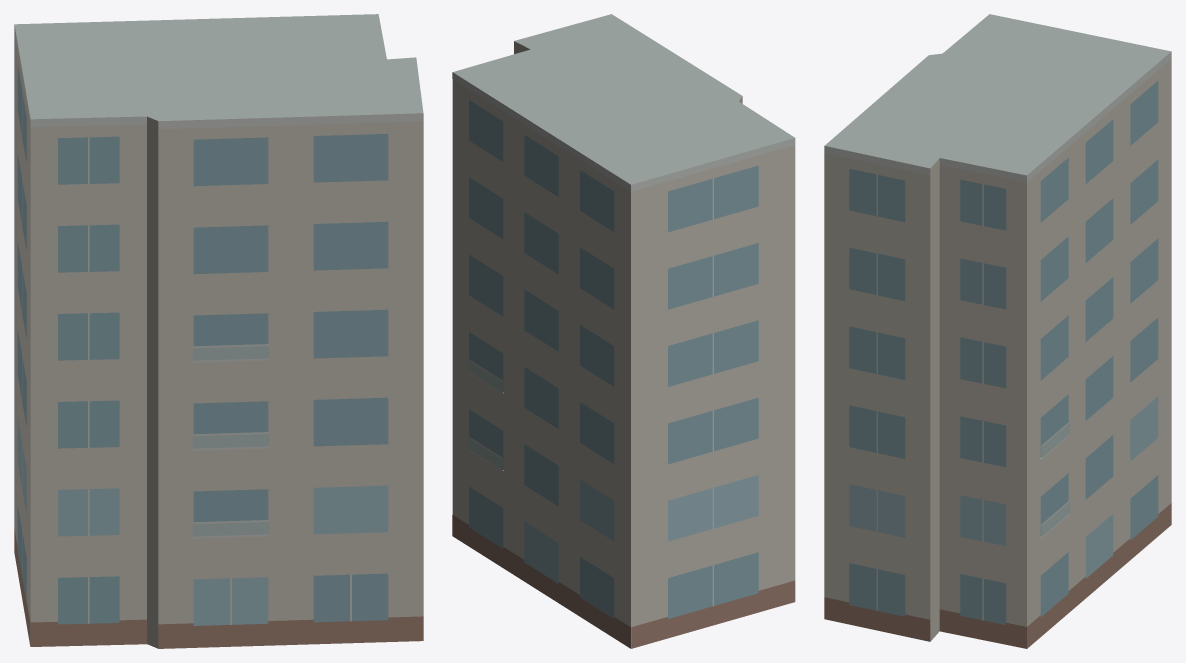
File: survey-upis-32803980.glb
3 views of the same model, side by side, from view 1: azimuth 30°, elevation 25°; view 2: azimuth 150°, elevation 25°; view 3: azimuth 270°, elevation 25° (orthographic). The views are drawn at different scales.
Parts seen in each view (by area): view 1: survey-upis-32803980.tmp; view 2: survey-upis-32803980.tmp; view 3: survey-upis-32803980.tmp.
Boxes of the visible parts, x1,y1,x2,y2 form: survey-upis-32803980.tmp: (14,14,423,648); survey-upis-32803980.tmp: (452,14,795,648); survey-upis-32803980.tmp: (824,14,1171,648).
Size of the model in its own units: 11.86 by 16.2 by 10.78.
